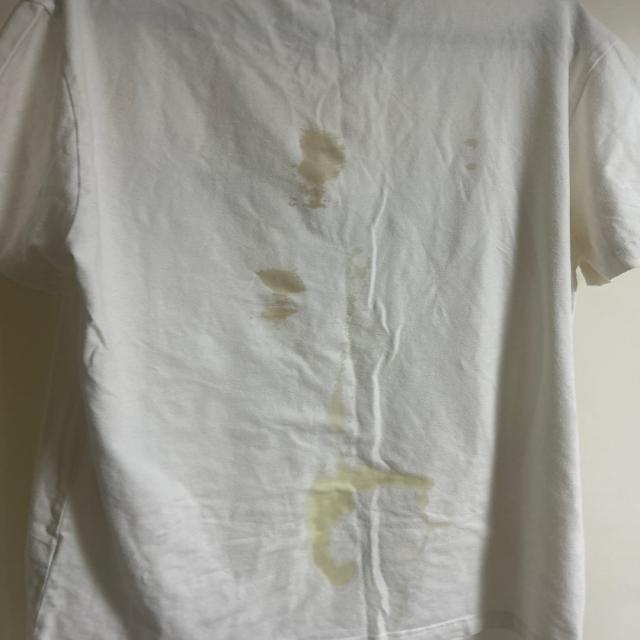stain: (312, 454, 437, 587), (284, 124, 354, 218), (240, 265, 312, 333), (318, 366, 359, 440), (348, 250, 376, 324), (455, 135, 491, 175)
